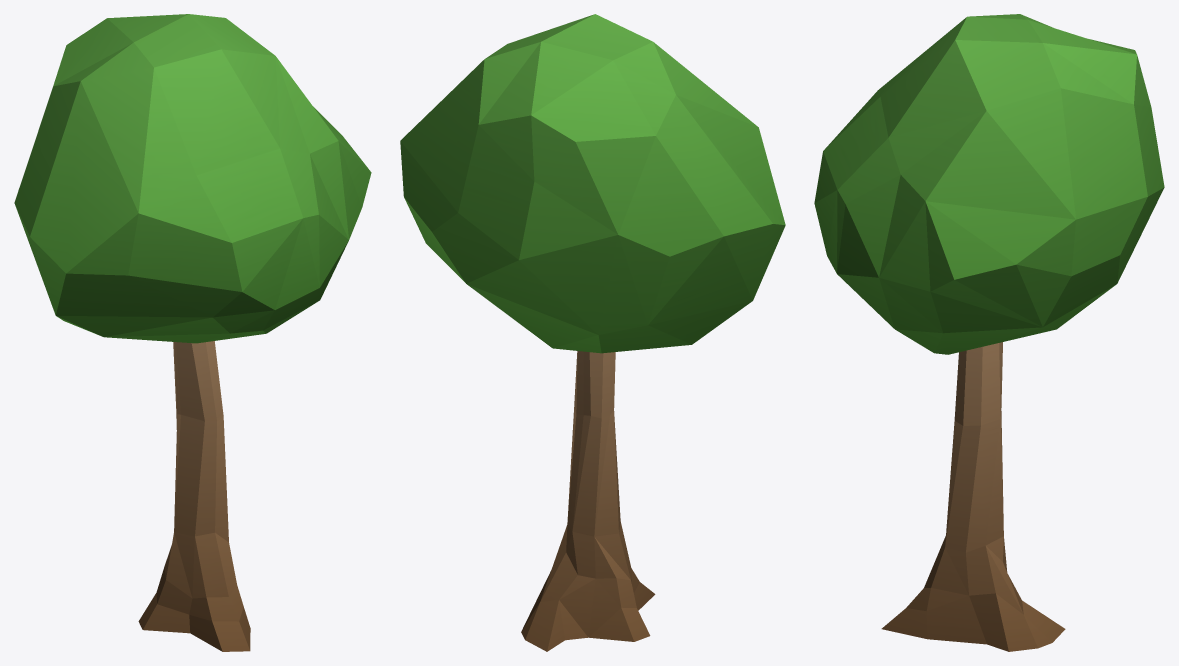
The model's file is tree_beech_green.fbx.
The picture shows the model from 3 angles, left to right: view 1: azimuth 30°, elevation 25°; view 2: azimuth 150°, elevation 25°; view 3: azimuth 270°, elevation 25°; orthographic projection. The views are drawn at different scales.
Visible parts, largest first — view 1: tree_beech_green; view 2: tree_beech_green; view 3: tree_beech_green.
Boxes of the visible parts, x1=… form: tree_beech_green: x1=14, y1=14, x2=371, y2=651; tree_beech_green: x1=400, y1=14, x2=785, y2=651; tree_beech_green: x1=814, y1=14, x2=1164, y2=651.
Size of the model in its own units: 4.42 by 7.33 by 3.91.
Materials: 1 (1 with a texture image).
